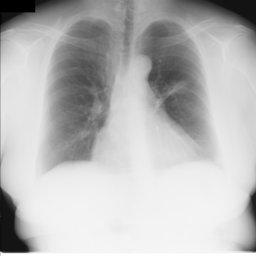left lobe: (141, 21, 212, 156)
right lobe: (48, 20, 115, 166)
